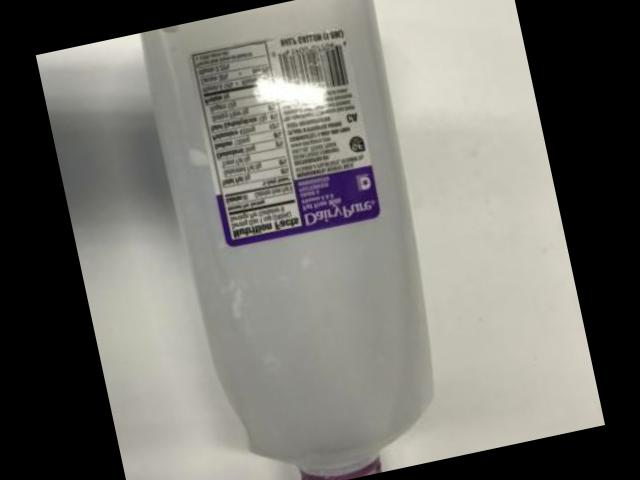plastic: (145, 0, 434, 480)
